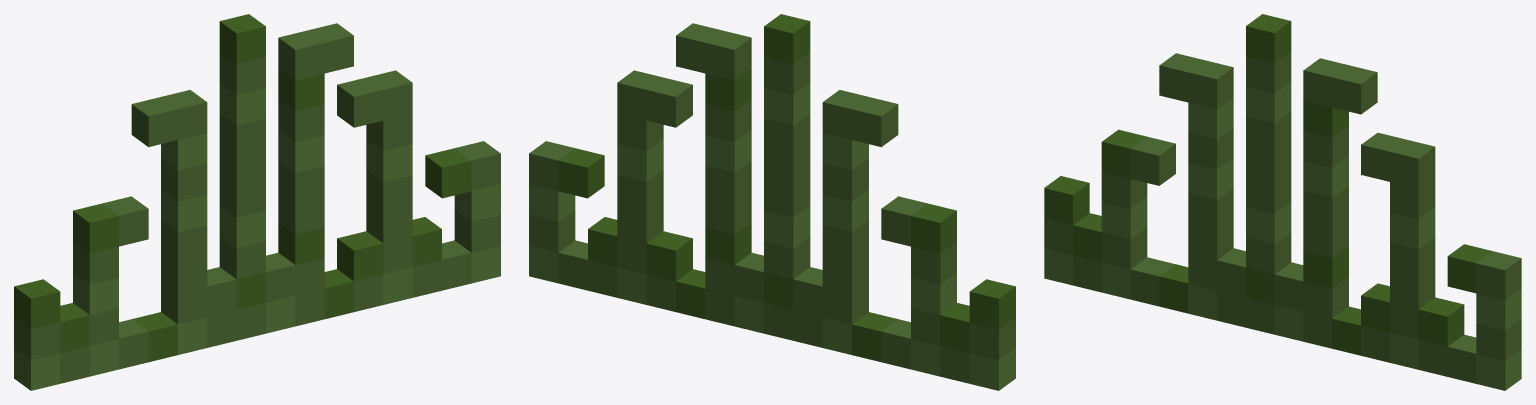
The model's file is grass.glb.
The picture shows the model from 3 angles, left to right: view 1: azimuth 30°, elevation 25°; view 2: azimuth 150°, elevation 25°; view 3: azimuth 330°, elevation 25°; orthographic projection.
Parts seen in each view (by area): view 1: grass; view 2: grass; view 3: grass.
Boxes of the visible parts, x1,y1,x2,y2 form: grass: (14, 14, 500, 390); grass: (529, 14, 1015, 390); grass: (1044, 14, 1521, 390).
Bounding box in the file's own units: 0.5 × 0.3125 × 0.0312.
1 material, 1 textured.
